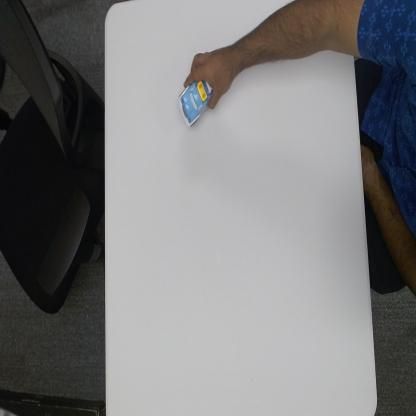Arm: (235, 0, 353, 68)
Car: (177, 80, 214, 130)
Hand: (183, 46, 238, 112)
